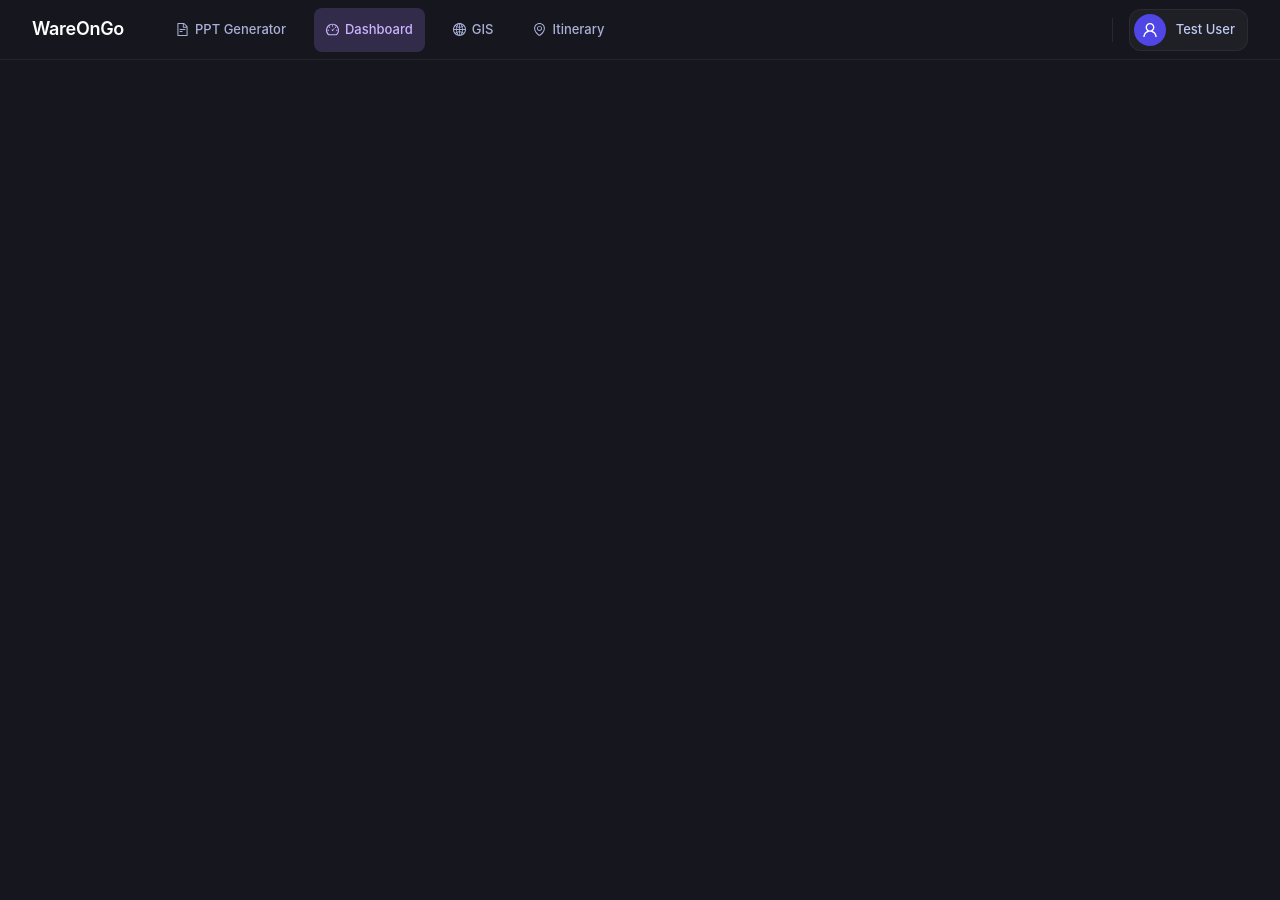
Test: itinerary reason flow › prompts once for 3 warehouses and reveals none before a reason is given
Click the link "Itinerary" at {"x": 569, "y": 29}, box [534,21,604,37]
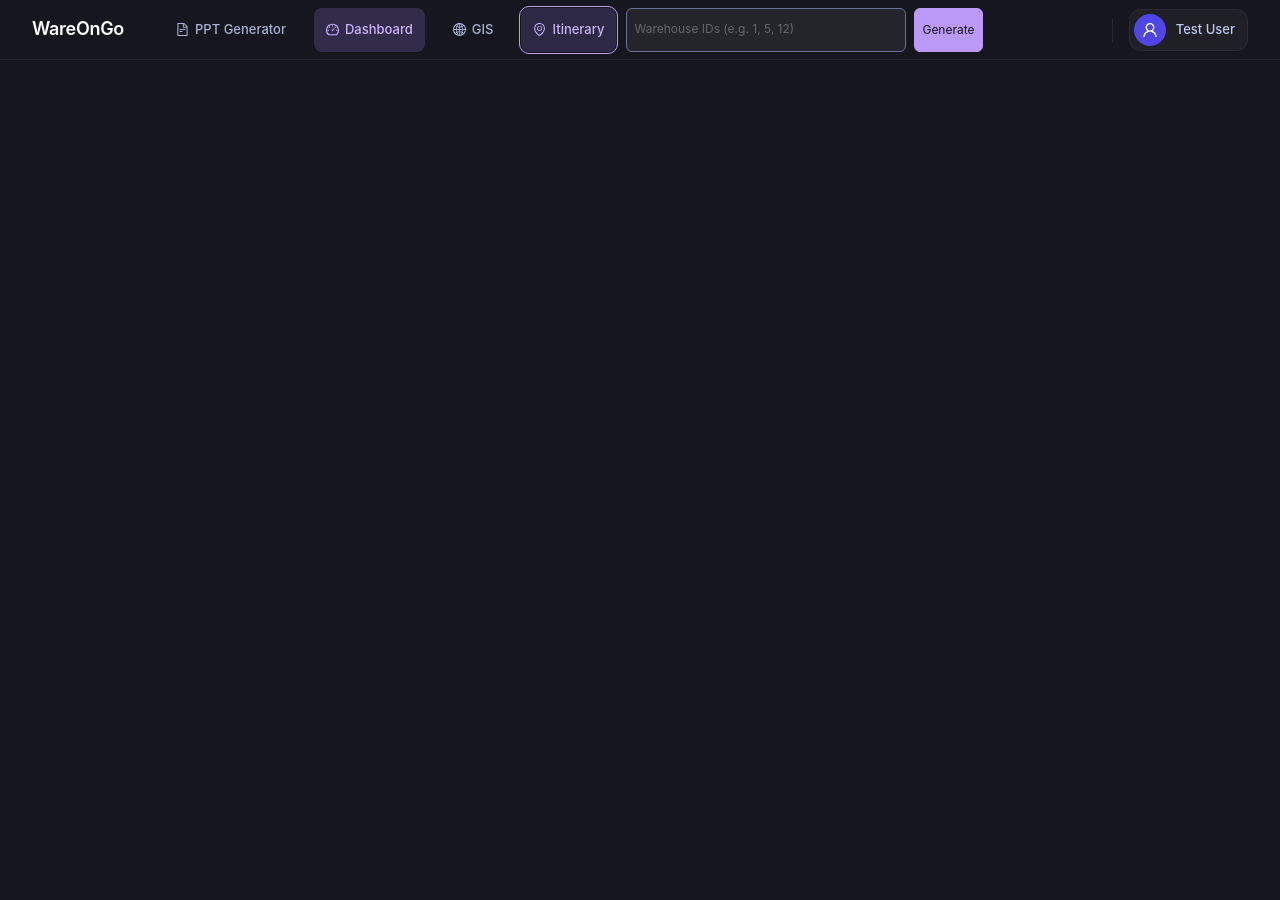
Type "1, 5, 12" into the field with placeholder "Warehouse IDs (e.g. 1, 5, 12)" at {"x": 766, "y": 30}, box [626,8,906,52]
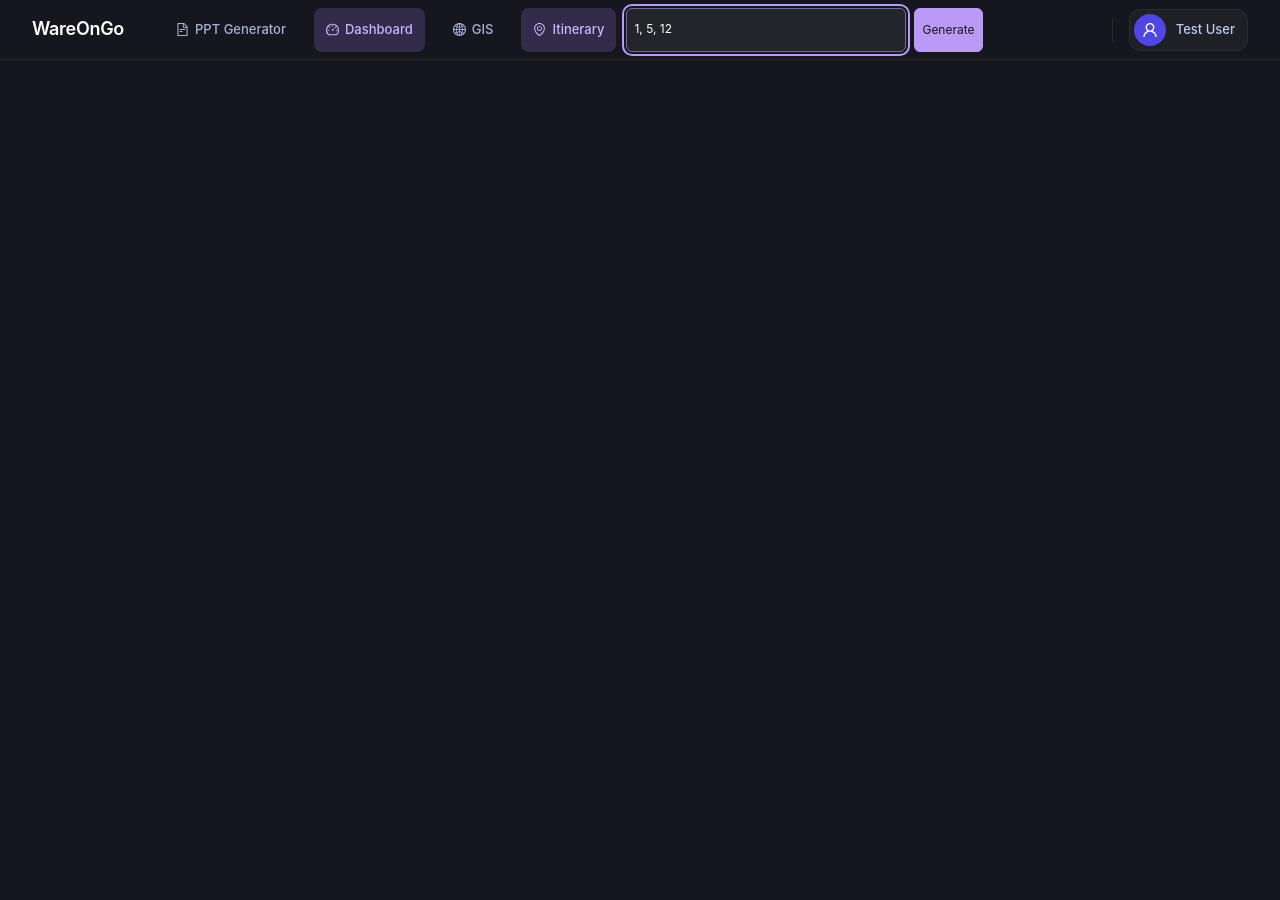
Click the button "Generate" at {"x": 948, "y": 30}, box [914,8,982,52]
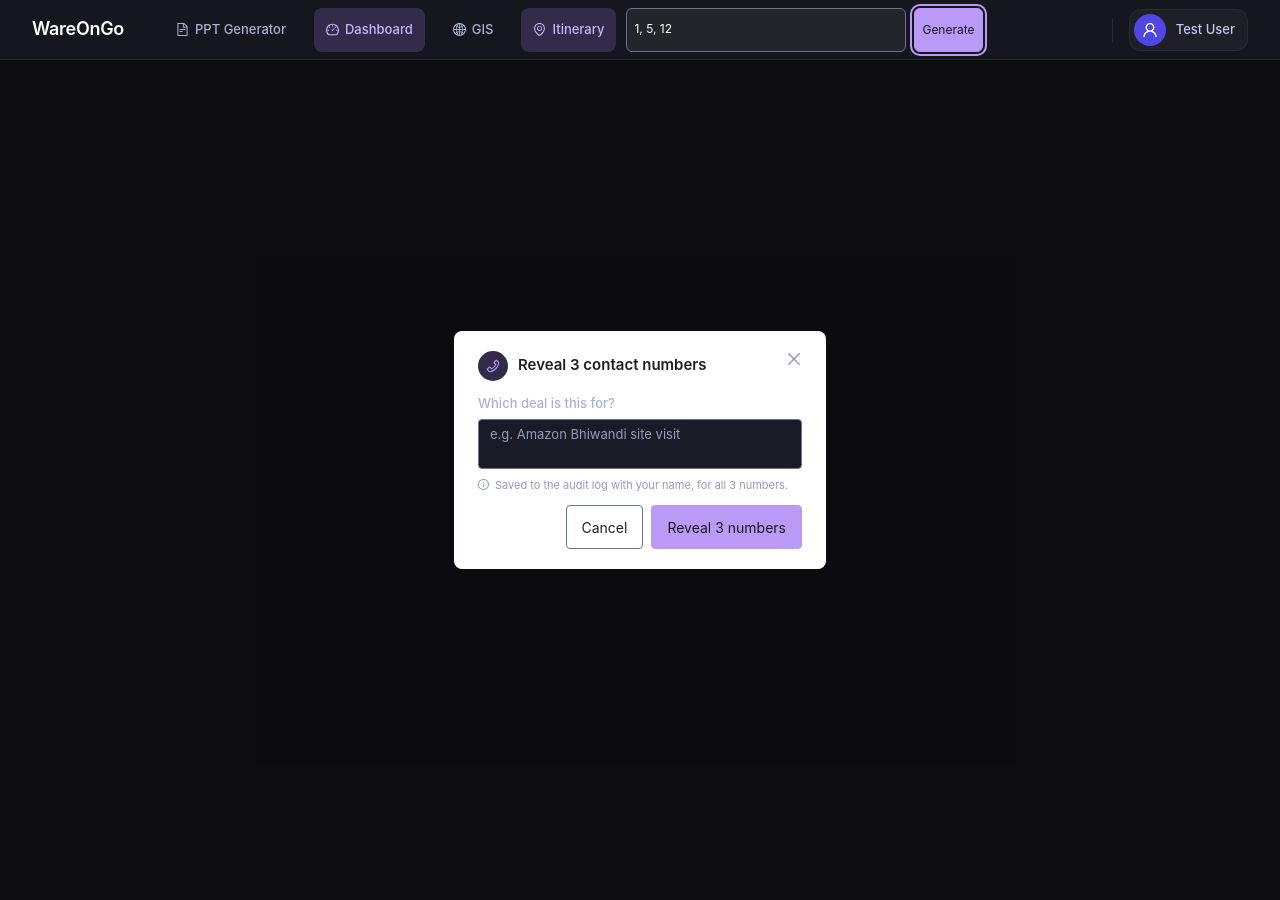
Now the text "Reveal 3 contact numbers" is shown, box [518,354,706,377]
